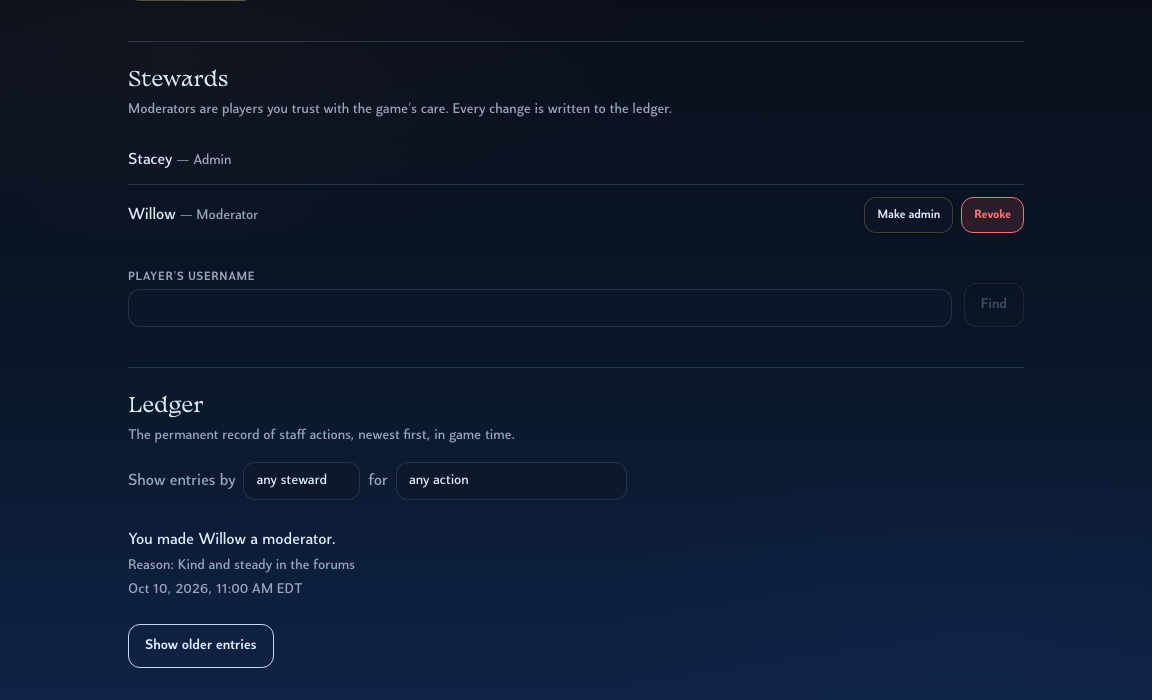
The Steward's Office › ledger: older entries load from the cursor
(page scrolled)
Click the button "Show older entries": [201, 646] box [128,624,274,668]
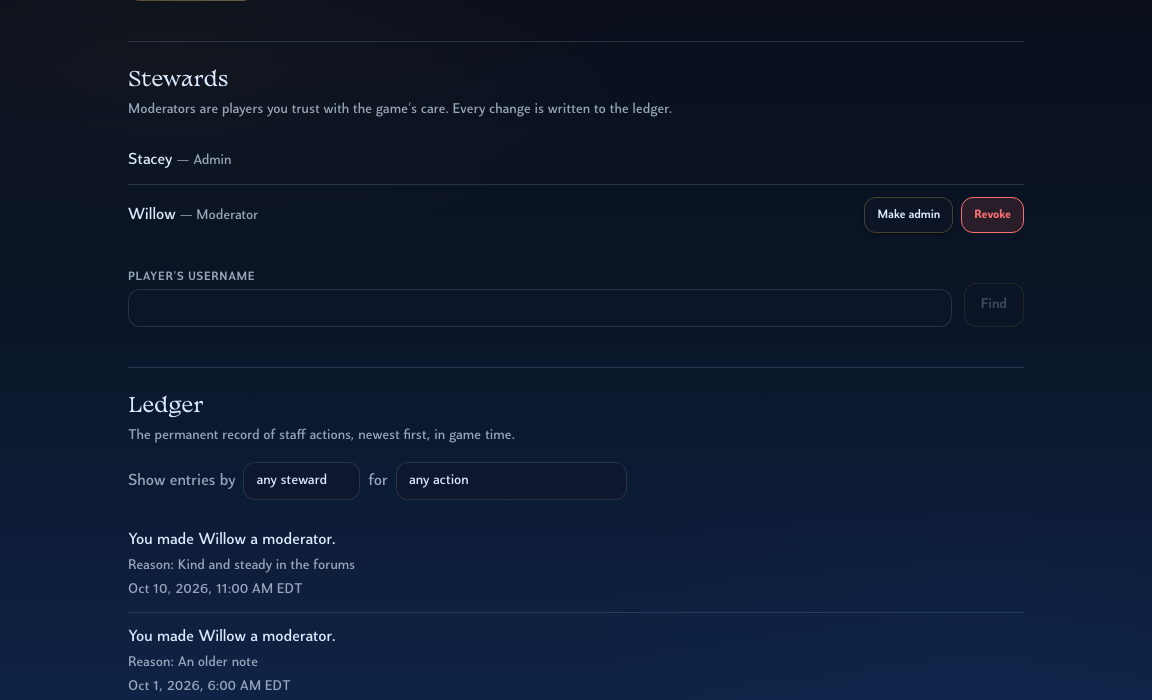
Check: the text "Reason: An older note" is shown, box [128,655,258,670]
Check: the button "Show older entries" is gone
